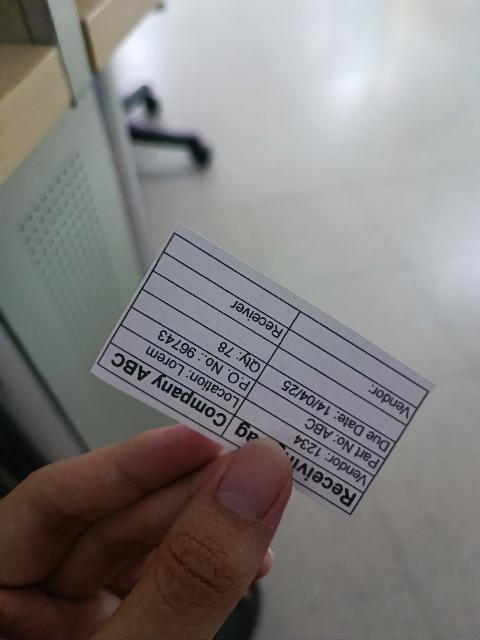PO no: (122, 308, 256, 399)
part no: (245, 382, 386, 476)
qty: (132, 290, 266, 382)
tags: (91, 225, 435, 520)
